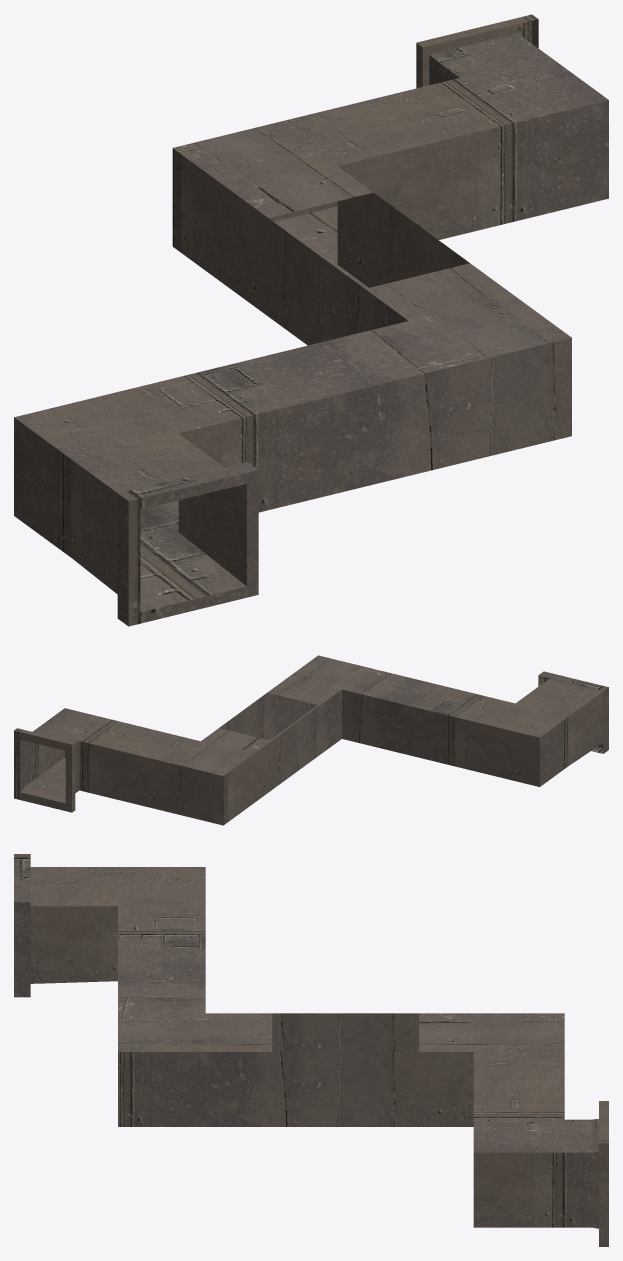
Rendered from SM_Republic_01_00.001.fbx.
3 renders of one model, top to bottom at view 1: azimuth 30°, elevation 25°; view 2: azimuth 150°, elevation 25°; view 3: azimuth 270°, elevation 25°, orthographic. The views are drawn at different scales.
Visible parts, largest first — view 1: SM_Republic_01_00.001; view 2: SM_Republic_01_00.001; view 3: SM_Republic_01_00.001.
Boxes of the visible parts, <box> form: SM_Republic_01_00.001: <box>14,14,608,626</box>; SM_Republic_01_00.001: <box>14,655,608,825</box>; SM_Republic_01_00.001: <box>14,854,608,1246</box>.
Size of the model in its own units: 1187 by 193 by 1013.
